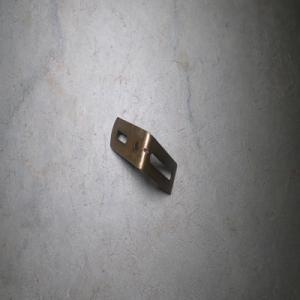MetalPart: (109, 115, 177, 197)
